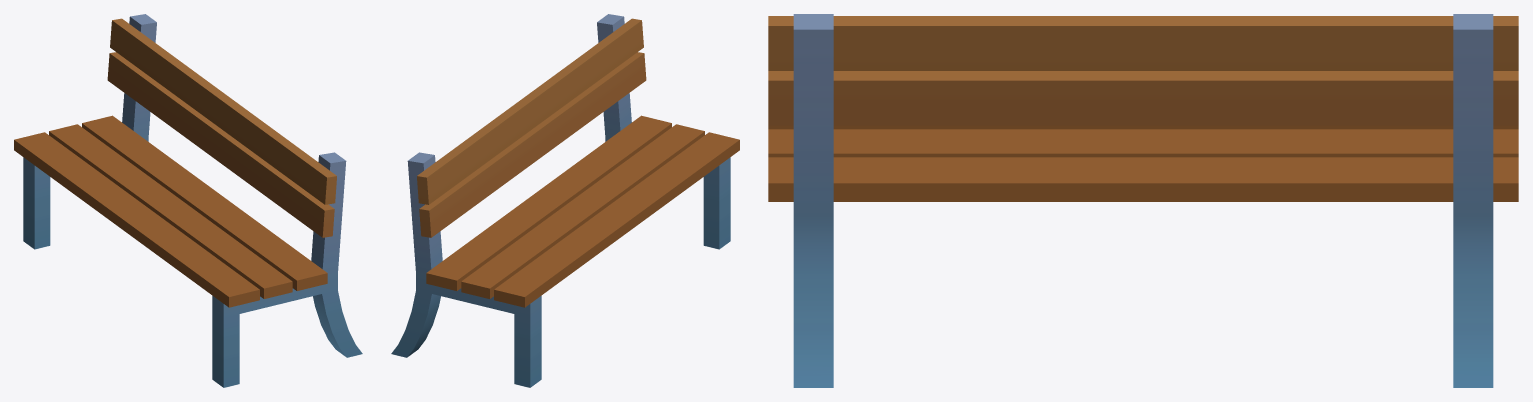
The model's file is Bench_2_A.fbx.
3 renders of one model, left to right at view 1: azimuth 30°, elevation 25°; view 2: azimuth 150°, elevation 25°; view 3: azimuth 270°, elevation 25°, orthographic. The views are drawn at different scales.
Visible parts, largest first — view 1: Bench_2_A; view 2: Bench_2_A; view 3: Bench_2_A.
Part boxes in pixels (x1=…): Bench_2_A: x1=14, y1=14, x2=362, y2=387; Bench_2_A: x1=391, y1=14, x2=739, y2=387; Bench_2_A: x1=768, y1=14, x2=1518, y2=387.
Bounding box in the file's own units: 62.34 × 83.85 × 165.
